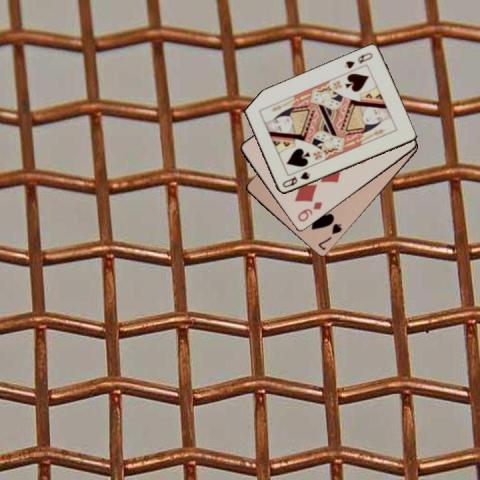7s: (316, 221, 344, 252)
9d: (295, 199, 324, 223)
Qs: (280, 170, 312, 190), (342, 50, 374, 70)
